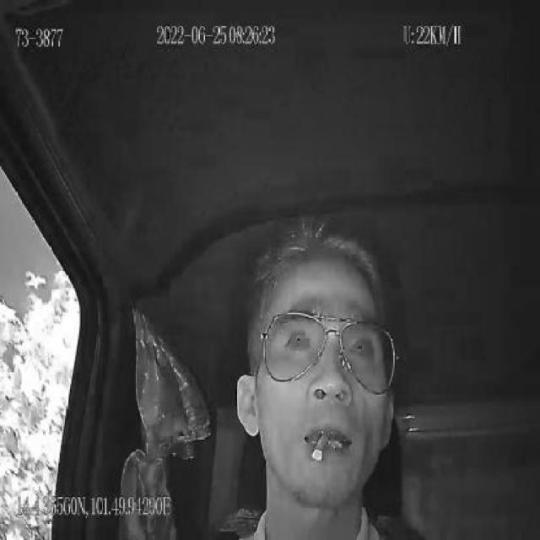smoking: (312, 428, 334, 466)
